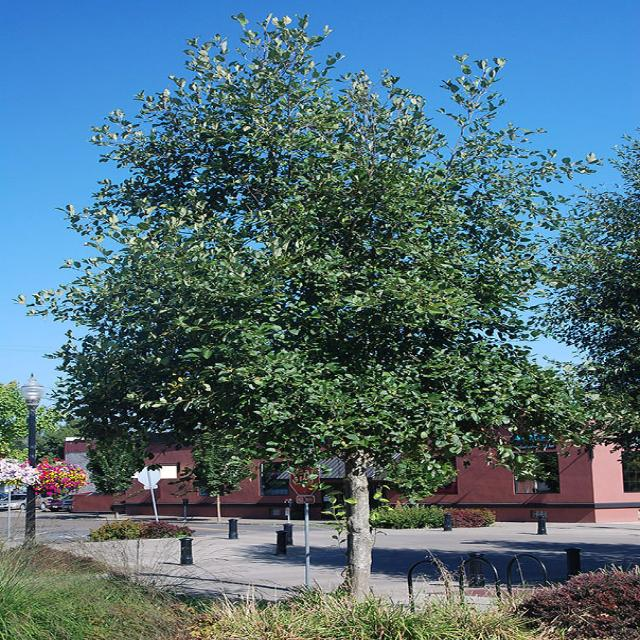Alnus rubra: (9, 13, 592, 602)
